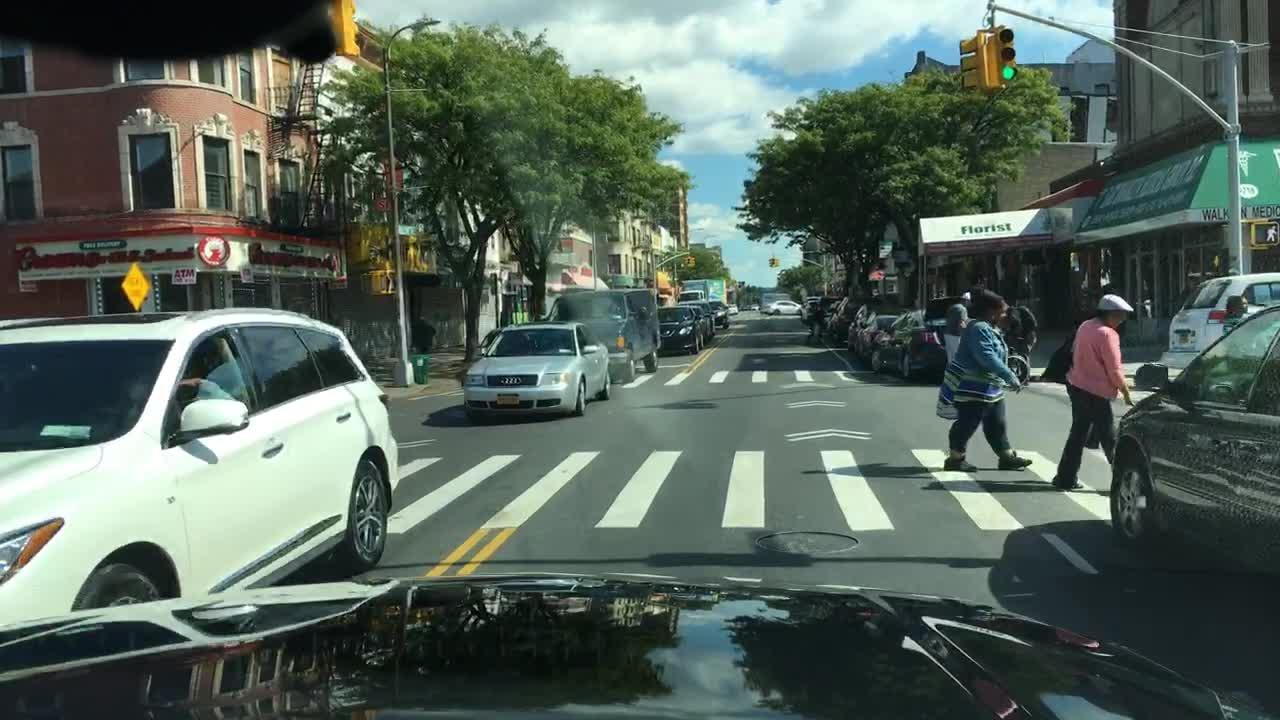Audi: (490, 373, 525, 390)
